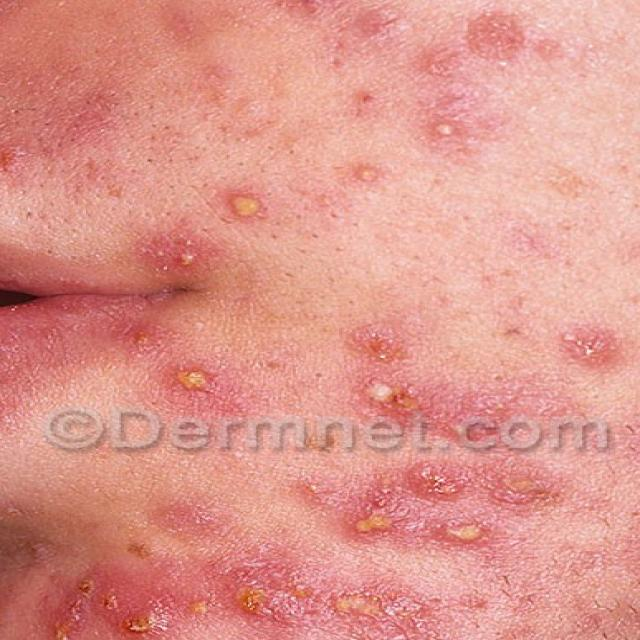Acne: (311, 299, 640, 559), (280, 0, 610, 149), (139, 158, 394, 275), (197, 543, 463, 640), (103, 317, 265, 437), (15, 551, 178, 640)
